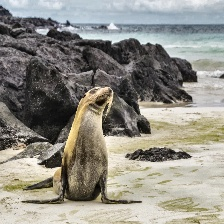seal: (107, 22, 122, 32)
